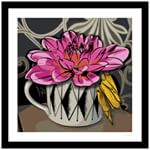cups: (23, 74, 122, 129)
